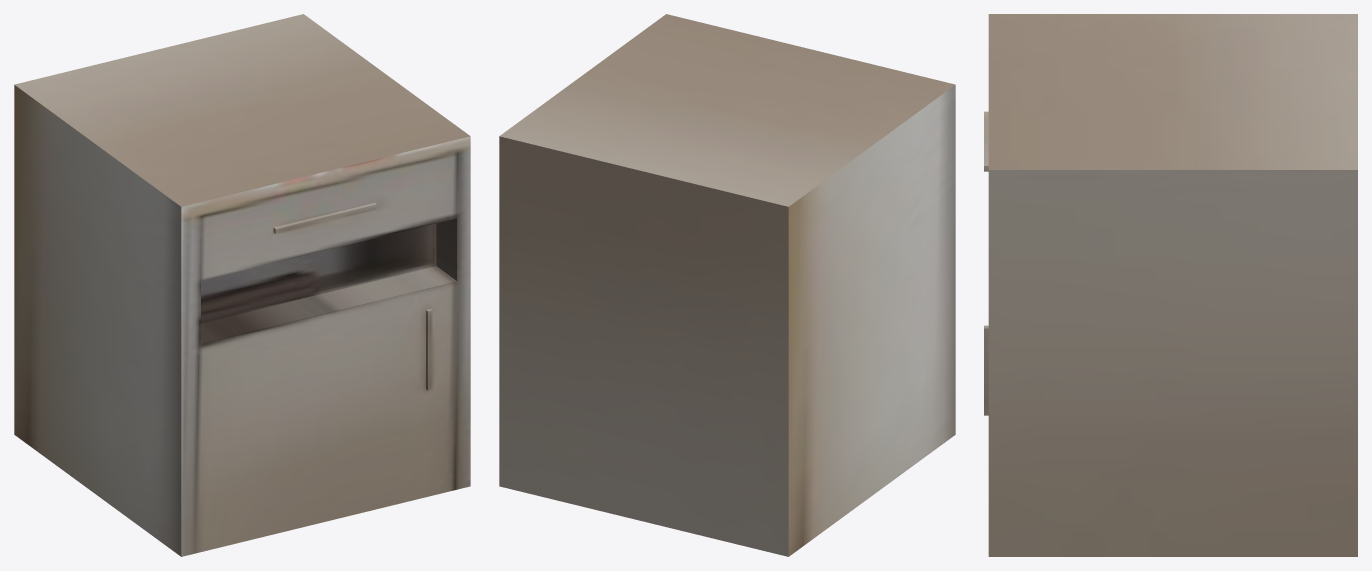
The model's file is tabledechevet.fbx.
3 renders of one model, left to right at view 1: azimuth 30°, elevation 25°; view 2: azimuth 150°, elevation 25°; view 3: azimuth 270°, elevation 25°, orthographic. The views are drawn at different scales.
Visible parts, largest first — view 1: MSH_meuble2; view 2: MSH_meuble2; view 3: MSH_meuble2.
Part boxes in pixels (x1,y1,x2,y2): MSH_meuble2: [14, 14, 470, 556]; MSH_meuble2: [499, 14, 955, 556]; MSH_meuble2: [984, 14, 1357, 556].
Size of the model in its own units: 6.56 by 7.58 by 6.64.
1 material, 1 textured.
